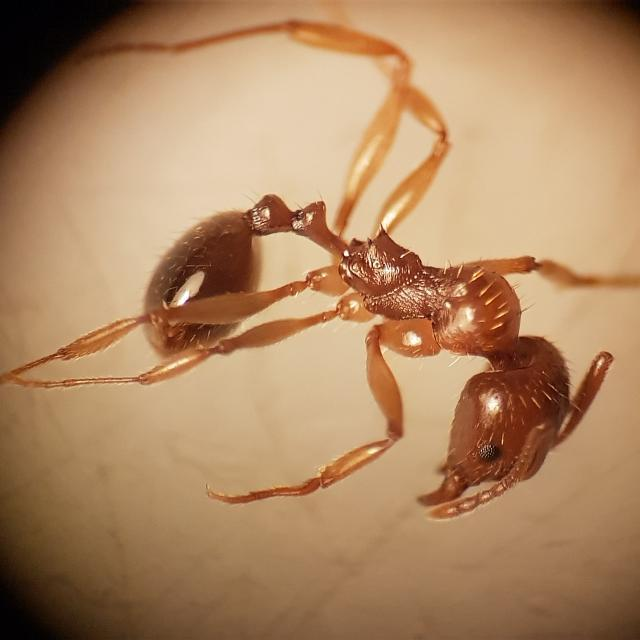Apheanogaster: (100, 79, 634, 533)
